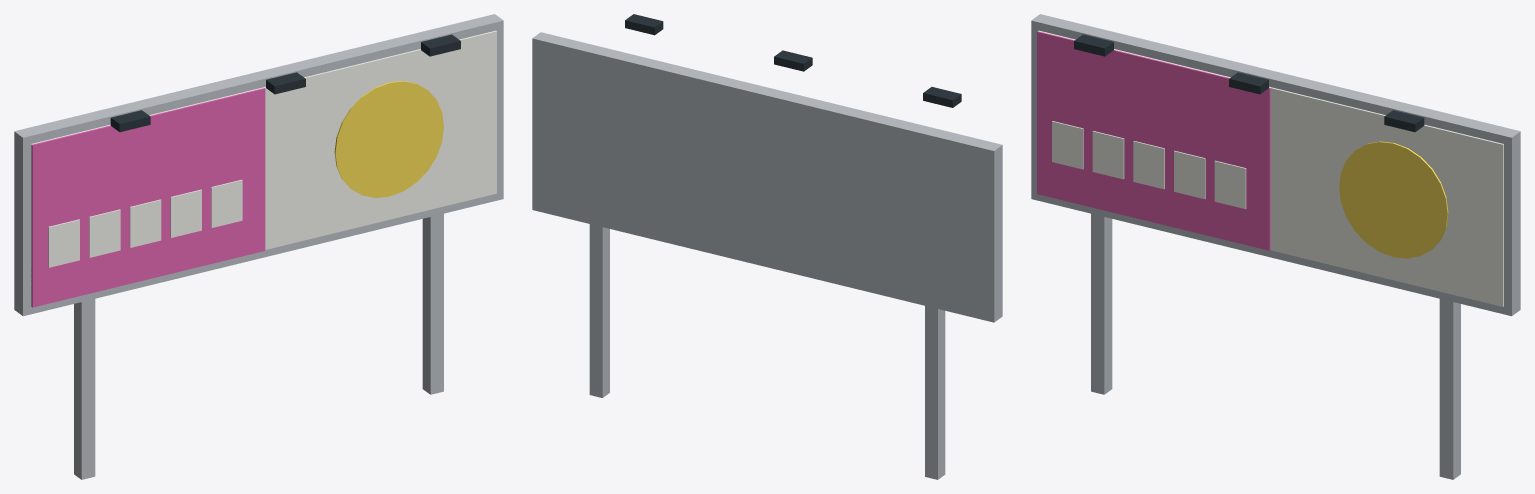
The model's file is billboard.glb.
3 views of the same model, side by side, from view 1: azimuth 30°, elevation 25°; view 2: azimuth 150°, elevation 25°; view 3: azimuth 330°, elevation 25° (orthographic). The views are drawn at different scales.
Visible parts, largest first — view 1: harbor_billboard; view 2: harbor_billboard; view 3: harbor_billboard.
Boxes of the visible parts, <box> form: harbor_billboard: <box>14,14,503,479</box>; harbor_billboard: <box>532,14,1002,479</box>; harbor_billboard: <box>1031,14,1520,479</box>.
Bounding box in the file's own units: 12.4 × 9.2 × 1.6.
